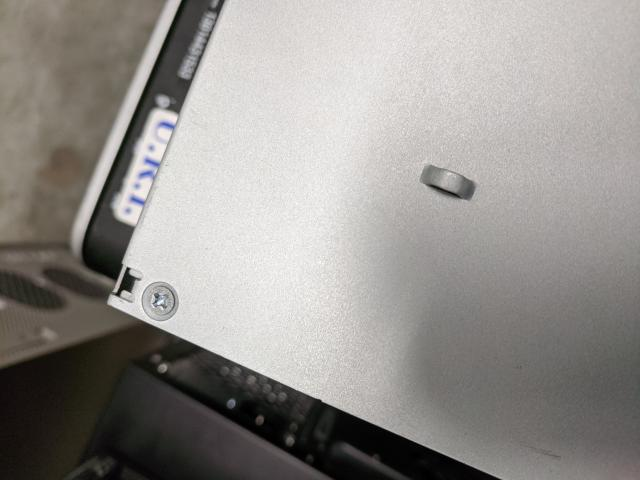CRS: (147, 282, 174, 316)
